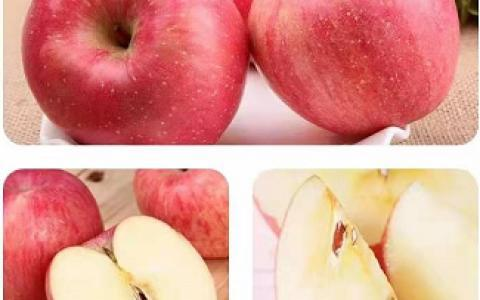apple: (21, 1, 247, 146), (245, 1, 457, 137), (274, 175, 397, 300), (44, 216, 216, 300), (1, 170, 102, 300), (131, 169, 229, 259)
